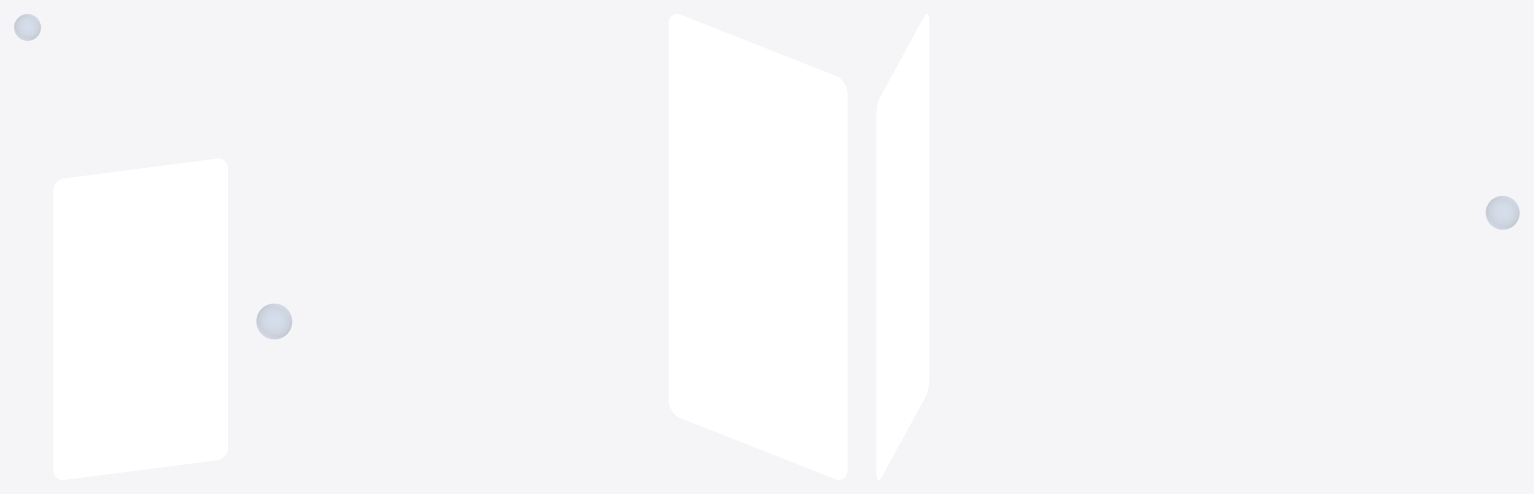
File: 0817_Motion_Test_3_NewMaterialc4d.glb
The picture shows the model from 3 angles, left to right: view 1: azimuth 30°, elevation 25°; view 2: azimuth 150°, elevation 25°; view 3: azimuth 270°, elevation 25°; orthographic projection. The views are drawn at different scales.
Visible parts, largest first — view 1: Polygon, Sphere.3; view 2: Polygon, Sphere.3; view 3: Polygon, Sphere.3.
Part boxes in pixels (x1,y1,x2,y2): Polygon: [53, 158, 227, 479]; Sphere.3: [14, 14, 40, 40]; Polygon: [668, 14, 847, 479]; Sphere.3: [256, 304, 291, 338]; Polygon: [876, 14, 929, 479]; Sphere.3: [1486, 196, 1519, 229].
Size of what is drawn, in the model's own units: 1.42 by 1.92 by 2.94.
